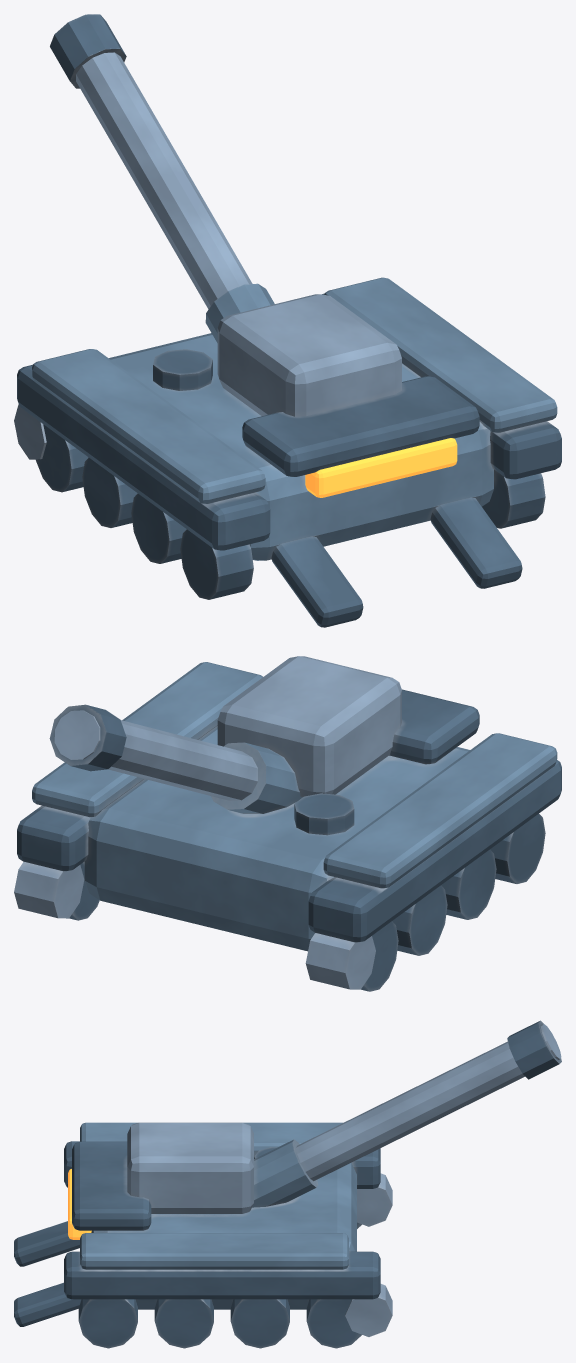
Rendered from dir_howitzer.glb.
The picture shows the model from 3 angles, top to bottom: view 1: azimuth 30°, elevation 25°; view 2: azimuth 150°, elevation 25°; view 3: azimuth 270°, elevation 25°; orthographic projection. The views are drawn at different scales.
Visible parts, largest first — view 1: dir_howitzer; view 2: dir_howitzer; view 3: dir_howitzer.
Part boxes in pixels (bbox=[...]): dir_howitzer: bbox=[14, 14, 561, 627]; dir_howitzer: bbox=[14, 656, 561, 991]; dir_howitzer: bbox=[14, 1020, 561, 1348].
Bounding box in the file's own units: 0.81 × 0.7468 × 1.38.
1 material, 1 textured.
